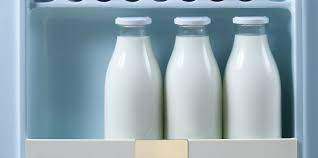milk: (168, 15, 224, 150), (104, 11, 159, 147), (229, 14, 278, 144)
